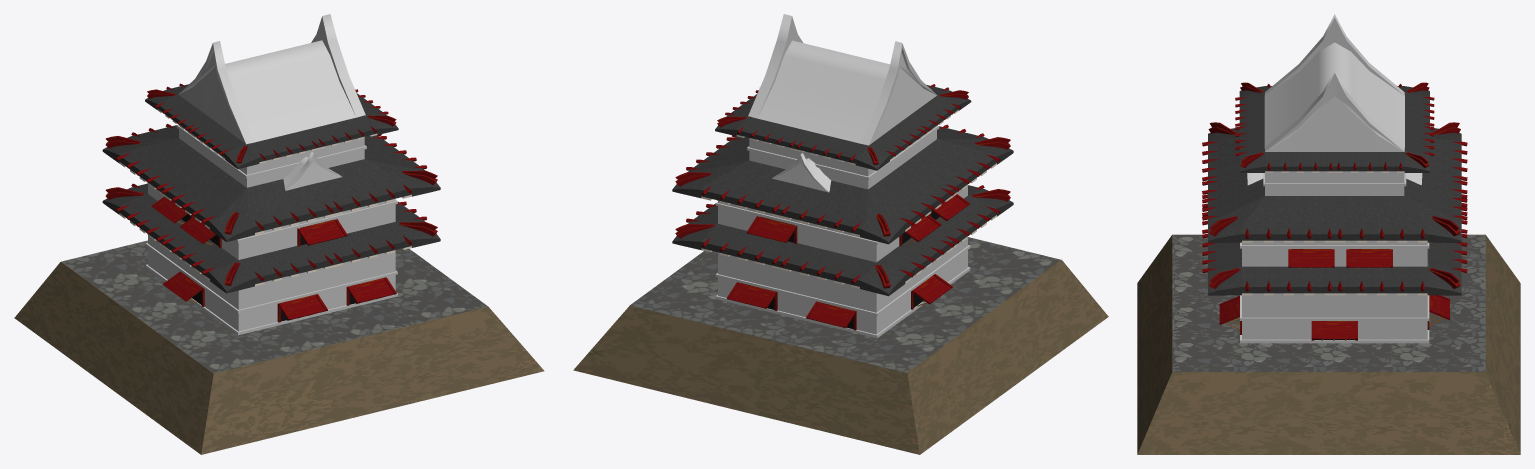
The model's file is japaneseCastle.fbx.
3 renders of one model, left to right at view 1: azimuth 30°, elevation 25°; view 2: azimuth 150°, elevation 25°; view 3: azimuth 270°, elevation 25°, orthographic. The views are drawn at different scales.
Parts seen in each view (by area): view 1: castleBase, castleEdgeRoof, castleWalls, castlePointRoof, castleCornerRoof, castleWindows; view 2: castleBase, castleEdgeRoof, castleWalls, castlePointRoof, castleCornerRoof, castleWindows; view 3: castleBase, castleEdgeRoof, castleWalls, castlePointRoof, castleCornerRoof, castleWindows.
Part boxes in pixels (left/top/right/bottom): castleBase: left=14, top=240, right=544, bottom=454; castleEdgeRoof: left=116, top=83, right=427, bottom=286; castleWalls: left=145, top=124, right=397, bottom=335; castlePointRoof: left=178, top=14, right=365, bottom=190; castleCornerRoof: left=102, top=89, right=440, bottom=293; castleWindows: left=151, top=196, right=396, bottom=322; castleBase: left=573, top=237, right=1108, bottom=454; castleEdgeRoof: left=686, top=84, right=1000, bottom=288; castleWalls: left=715, top=125, right=970, bottom=338; castlePointRoof: left=748, top=14, right=937, bottom=192; castleCornerRoof: left=672, top=90, right=1013, bottom=296; castleWindows: left=727, top=194, right=969, bottom=330; castleBase: left=1137, top=234, right=1520, bottom=454; castleEdgeRoof: left=1202, top=84, right=1467, bottom=295; castleWalls: left=1240, top=171, right=1429, bottom=343; castlePointRoof: left=1247, top=14, right=1422, bottom=185; castleCornerRoof: left=1208, top=82, right=1461, bottom=295; castleWindows: left=1219, top=242, right=1450, bottom=340.
Bounding box in the file's own units: 3501 × 3071 × 3300.
